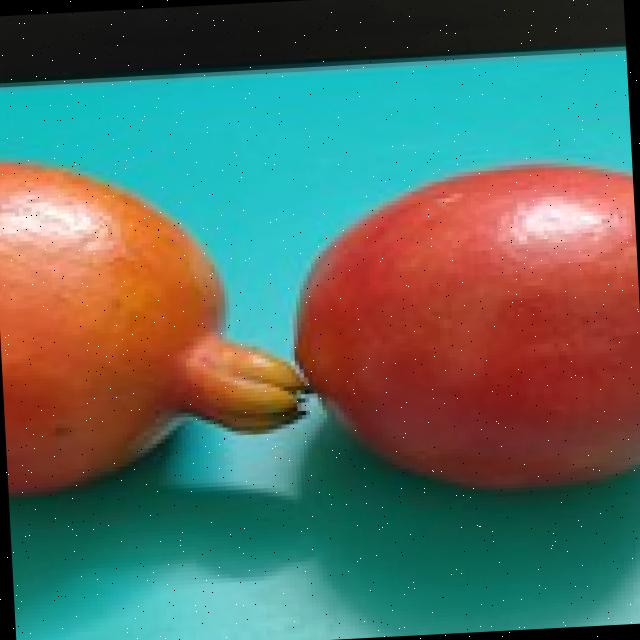Good_Pomegranate-50-60-days: (0, 163, 640, 502)
